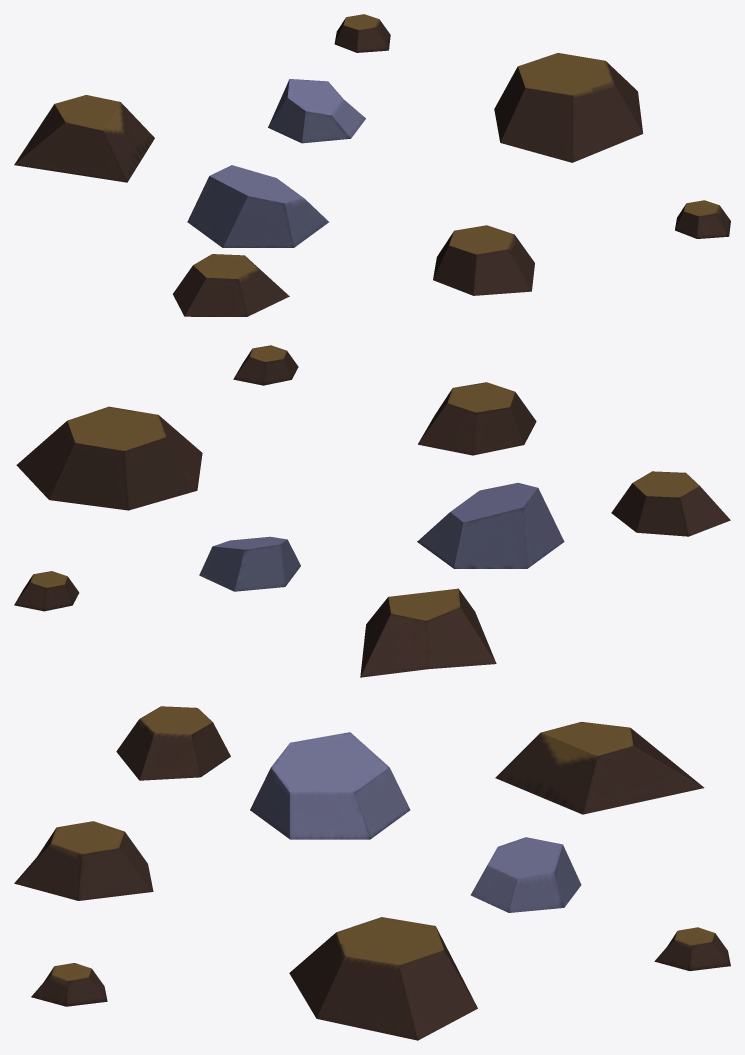
Rendered from tile_wood_1_ruin_lod1.fbx.
3 views of the same model, one above another, from view 1: azimuth 30°, elevation 25°; view 2: azimuth 150°, elevation 25°; view 3: azimuth 270°, elevation 25° (orthographic). The views are drawn at different scales.
Visible parts, largest first — view 1: wood_1_ruin_lod1; view 2: wood_1_ruin_lod1; view 3: wood_1_ruin_lod1.
Boxes of the visible parts, <box> form: wood_1_ruin_lod1: <box>14,14,730,316</box>; wood_1_ruin_lod1: <box>14,345,730,677</box>; wood_1_ruin_lod1: <box>14,706,730,1040</box>.
Bounding box in the file's own units: 0.0489 × 0.00407 × 0.047.
